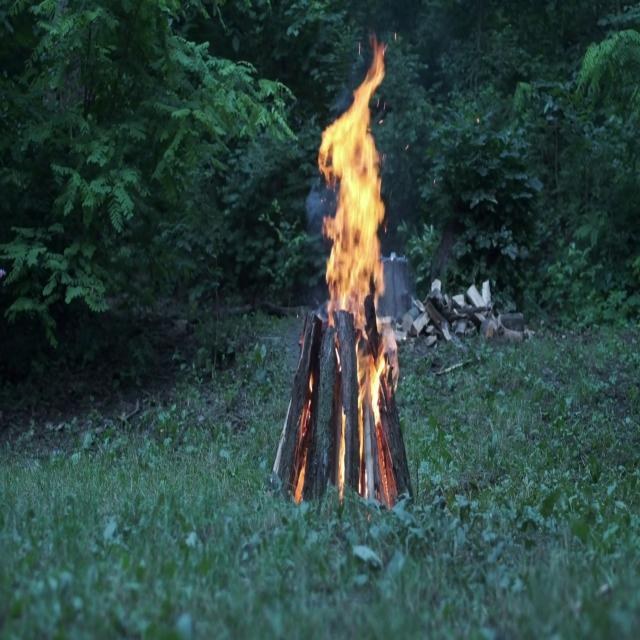Fire: (310, 28, 400, 480)
